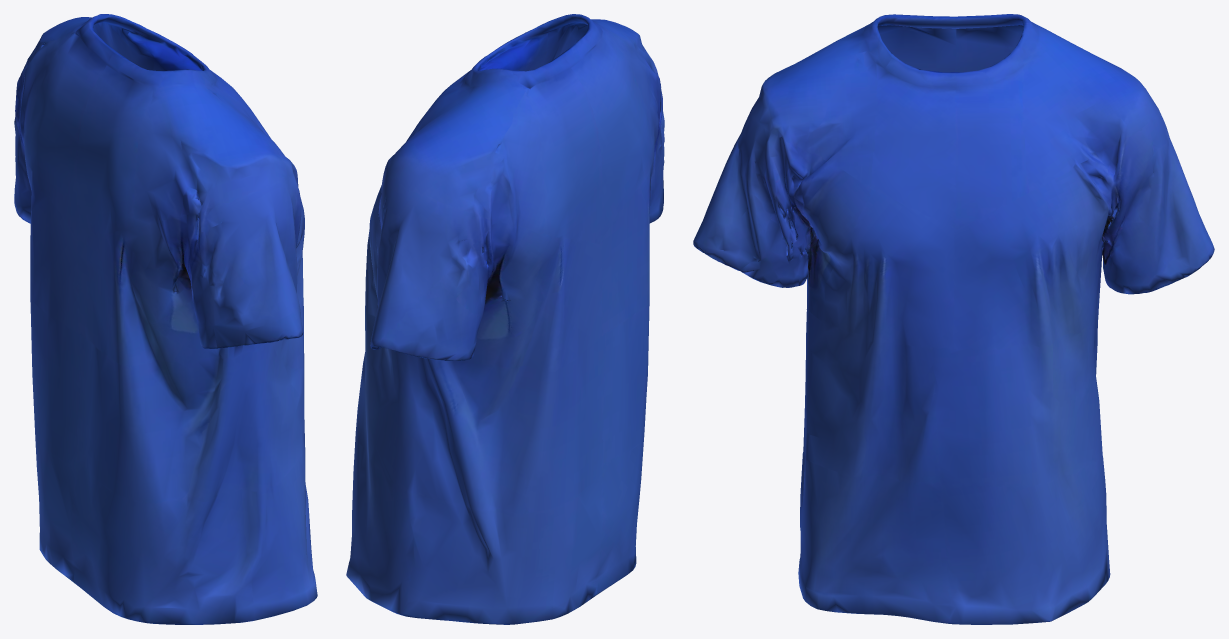
3 views of the same model, side by side, from view 1: azimuth 30°, elevation 25°; view 2: azimuth 150°, elevation 25°; view 3: azimuth 270°, elevation 25° (orthographic).
Visible parts, largest first — view 1: tripo_node_da73fa9b-c94c-4ebb-965e-651bac901e06; view 2: tripo_node_da73fa9b-c94c-4ebb-965e-651bac901e06; view 3: tripo_node_da73fa9b-c94c-4ebb-965e-651bac901e06.
Boxes of the visible parts, bbox=[...] form: tripo_node_da73fa9b-c94c-4ebb-965e-651bac901e06: bbox=[14, 14, 317, 624]; tripo_node_da73fa9b-c94c-4ebb-965e-651bac901e06: bbox=[346, 14, 664, 624]; tripo_node_da73fa9b-c94c-4ebb-965e-651bac901e06: bbox=[693, 14, 1214, 624].
Bounding box in the file's own units: 0.4241 × 0.9999 × 0.8817.
Materials: 1 (1 with a texture image).
